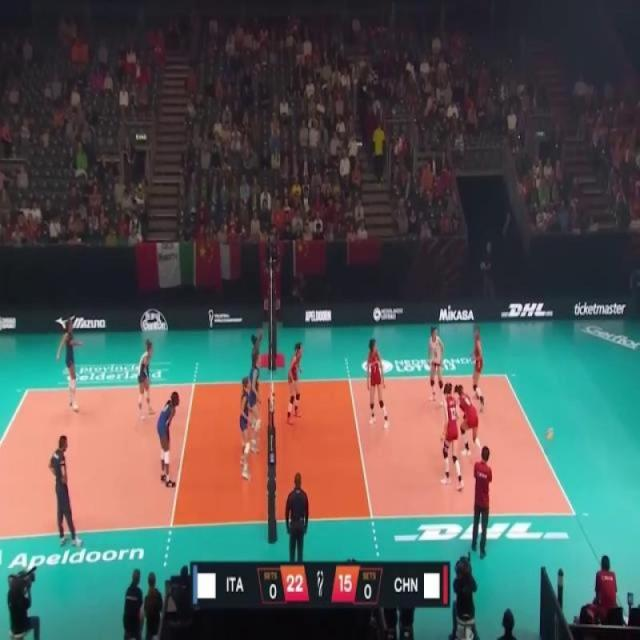volleyball: (545, 426, 555, 441)
